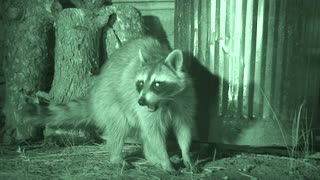raccoon: (16, 35, 209, 174)
